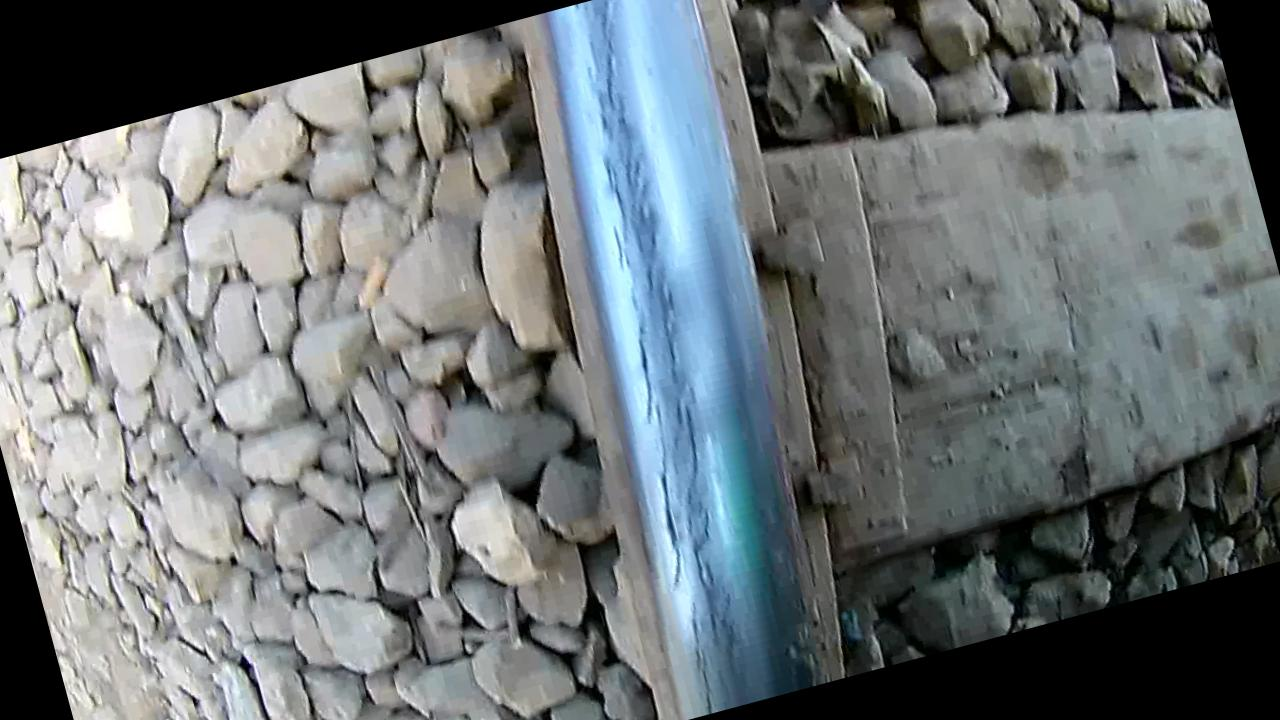normal_track: (508, 0, 814, 718)
